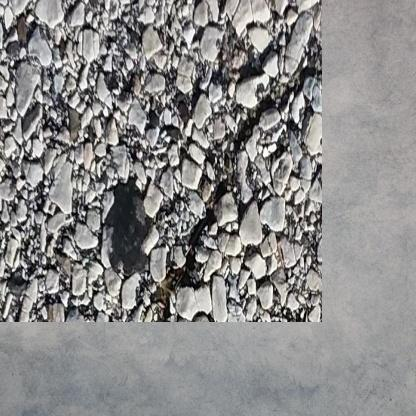Cracks: (138, 42, 298, 298)
